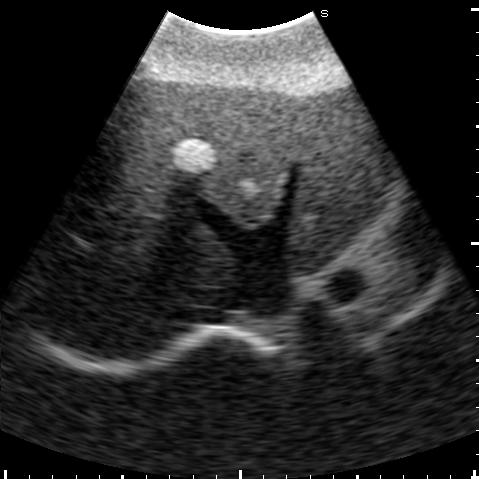S2: (287, 93, 390, 274)
S4: (123, 81, 309, 227)
S7: (44, 244, 181, 360)
S8: (74, 145, 230, 292)
Tumor: (172, 139, 216, 174)
